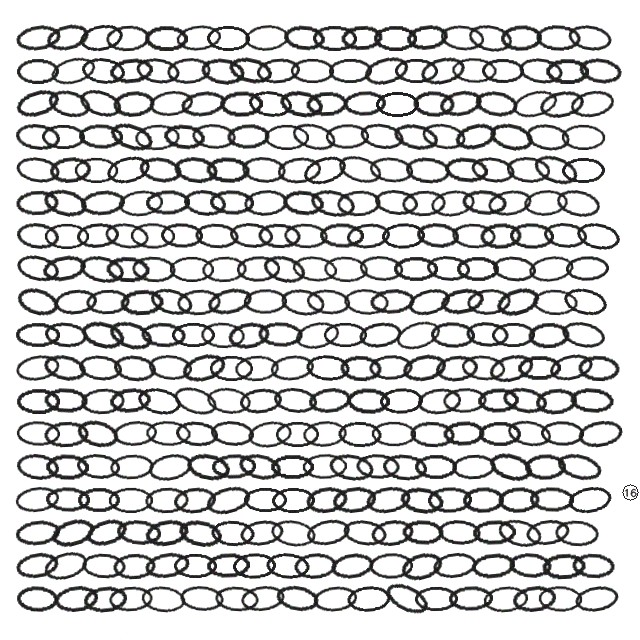chain: (381, 577, 432, 620), (530, 150, 581, 189), (106, 118, 156, 156), (393, 316, 443, 354), (170, 382, 220, 420), (300, 151, 349, 189), (106, 316, 155, 354), (361, 52, 411, 89), (13, 85, 62, 122), (76, 85, 125, 122), (335, 151, 384, 188), (493, 283, 542, 320), (179, 349, 228, 386), (486, 448, 535, 485), (48, 514, 97, 551), (41, 547, 90, 584), (48, 53, 98, 89), (510, 86, 560, 122), (289, 119, 339, 155), (486, 350, 536, 386), (554, 449, 604, 485), (203, 482, 253, 518), (495, 515, 545, 551), (14, 283, 62, 320), (83, 514, 131, 551), (260, 251, 309, 287), (147, 284, 196, 320), (405, 284, 454, 320), (398, 548, 446, 584), (418, 53, 467, 88), (45, 86, 94, 121), (205, 284, 254, 319), (561, 284, 610, 319), (78, 317, 127, 352), (44, 20, 92, 55), (226, 53, 274, 88), (452, 119, 500, 154), (487, 119, 535, 154), (104, 152, 152, 187), (41, 185, 89, 220), (14, 251, 62, 286), (547, 350, 595, 385), (74, 416, 122, 451), (466, 21, 515, 55), (537, 87, 586, 121), (391, 120, 440, 154), (308, 186, 357, 220), (574, 219, 623, 253), (77, 252, 126, 286), (293, 318, 342, 352), (559, 318, 608, 352), (135, 384, 184, 418), (554, 186, 602, 220), (41, 351, 89, 385), (146, 450, 194, 484), (236, 450, 284, 484), (176, 516, 224, 550), (568, 87, 617, 120), (500, 384, 549, 417), (573, 582, 620, 616), (77, 21, 125, 54), (277, 87, 325, 120), (437, 87, 485, 120), (358, 120, 406, 153), (40, 252, 88, 285), (438, 285, 486, 318), (400, 351, 448, 384), (505, 417, 553, 450), (576, 417, 624, 450), (184, 450, 232, 483), (364, 483, 412, 516), (566, 483, 614, 516), (304, 516, 352, 549), (143, 549, 191, 582), (420, 120, 467, 153), (143, 516, 190, 549), (14, 549, 61, 582), (274, 582, 321, 615), (14, 22, 62, 54), (134, 55, 182, 87), (517, 55, 565, 87), (179, 88, 227, 120), (524, 121, 572, 153), (429, 187, 477, 219), (486, 187, 534, 219), (103, 220, 151, 252), (527, 253, 575, 285), (246, 418, 294, 450), (327, 451, 375, 483), (238, 517, 286, 549), (269, 517, 317, 549), (341, 517, 389, 549), (566, 22, 613, 54), (199, 55, 246, 87), (577, 55, 624, 87), (473, 88, 520, 120), (14, 154, 61, 186), (137, 154, 184, 186), (469, 154, 516, 186), (279, 286, 326, 318), (357, 319, 404, 351), (14, 352, 61, 384), (398, 484, 445, 516), (329, 550, 376, 582), (205, 385, 253, 416), (239, 583, 287, 614), (226, 319, 272, 351), (14, 121, 61, 152), (172, 154, 219, 185), (272, 385, 319, 416), (14, 484, 61, 515), (369, 517, 416, 548), (524, 517, 571, 548), (431, 550, 478, 581), (80, 55, 126, 86), (148, 88, 194, 119), (247, 88, 293, 119), (182, 187, 228, 218), (373, 187, 419, 218), (15, 220, 61, 251), (307, 385, 353, 416), (15, 451, 61, 482), (304, 484, 350, 515), (331, 484, 377, 515), (53, 583, 99, 614), (511, 583, 557, 614), (175, 23, 222, 53), (439, 23, 486, 53), (368, 155, 415, 185), (404, 155, 451, 185), (79, 188, 126, 218), (117, 188, 164, 218), (345, 221, 392, 251), (291, 254, 338, 284), (305, 287, 352, 317), (460, 353, 507, 383), (381, 452, 428, 482), (14, 518, 61, 548), (140, 584, 187, 614), (312, 584, 359, 614), (482, 584, 529, 614), (405, 22, 450, 53), (108, 56, 154, 86), (255, 56, 301, 86), (276, 155, 322, 185), (443, 155, 489, 185), (491, 254, 537, 284), (53, 287, 99, 317), (43, 320, 89, 350), (77, 353, 123, 383), (112, 353, 158, 383), (269, 353, 315, 383), (434, 353, 480, 383), (238, 386, 284, 416), (416, 386, 462, 416), (174, 419, 220, 449), (172, 485, 218, 515), (470, 551, 516, 581), (82, 584, 128, 614), (505, 155, 552, 184), (228, 221, 275, 250), (542, 221, 589, 250), (358, 254, 405, 283), (115, 518, 162, 547), (282, 23, 327, 53), (162, 122, 207, 152), (281, 188, 326, 218), (534, 386, 579, 416), (244, 23, 290, 52), (191, 122, 237, 151), (241, 155, 287, 184), (461, 188, 507, 217), (523, 188, 569, 217), (75, 221, 121, 250), (415, 221, 461, 250), (425, 254, 471, 283), (343, 287, 389, 316), (369, 287, 415, 316), (466, 287, 512, 316), (147, 353, 193, 382), (112, 419, 158, 448), (209, 419, 255, 448), (302, 419, 348, 448), (75, 452, 121, 481), (346, 584, 392, 613), (166, 56, 211, 85), (48, 155, 93, 184), (243, 188, 288, 217), (465, 320, 510, 349), (305, 353, 350, 382), (108, 386, 153, 415), (569, 386, 614, 415), (437, 518, 482, 547), (265, 551, 310, 580), (293, 551, 338, 580), (508, 551, 553, 580), (179, 584, 224, 613), (134, 123, 180, 151), (401, 189, 447, 217), (283, 222, 329, 250), (201, 255, 247, 283), (323, 255, 369, 283), (85, 288, 131, 316), (176, 288, 222, 316), (532, 288, 578, 316), (140, 321, 186, 349), (200, 321, 246, 349), (234, 354, 280, 382), (43, 420, 89, 448), (409, 420, 455, 448), (451, 453, 497, 481), (210, 519, 256, 547), (554, 519, 600, 547), (108, 585, 154, 613), (112, 89, 156, 118), (105, 24, 150, 52), (15, 189, 60, 217), (336, 189, 381, 217), (194, 222, 239, 250), (257, 222, 302, 250), (451, 222, 496, 250), (105, 255, 150, 283), (131, 255, 176, 283), (119, 288, 164, 316), (80, 387, 125, 415), (337, 420, 382, 448), (109, 453, 154, 481), (144, 486, 189, 514), (81, 552, 126, 580), (112, 552, 157, 580), (541, 552, 586, 580), (571, 552, 616, 580), (214, 585, 259, 613), (535, 24, 581, 51), (451, 57, 497, 84), (257, 321, 303, 348), (368, 354, 414, 381), (145, 420, 191, 447), (355, 453, 401, 480), (340, 24, 384, 52), (305, 90, 349, 118), (527, 321, 571, 349), (339, 354, 383, 382), (577, 354, 621, 382), (78, 123, 123, 150), (226, 123, 271, 150), (205, 156, 250, 183), (145, 189, 190, 216), (209, 189, 254, 216), (130, 222, 175, 249), (319, 222, 364, 249), (509, 222, 554, 249), (236, 255, 281, 282), (565, 255, 610, 282), (430, 321, 475, 348), (43, 387, 88, 414), (379, 387, 424, 414), (442, 387, 487, 414), (540, 420, 585, 447), (211, 453, 256, 480), (302, 453, 347, 480), (45, 486, 90, 513), (427, 486, 472, 513), (529, 486, 574, 513), (232, 552, 277, 579), (448, 585, 493, 612), (538, 585, 583, 612), (219, 90, 263, 117), (343, 90, 387, 117), (412, 90, 456, 117), (325, 123, 369, 150), (160, 222, 204, 249), (381, 222, 425, 249), (479, 222, 523, 249), (243, 288, 287, 315), (346, 387, 390, 414), (16, 420, 60, 447), (442, 420, 486, 447), (45, 453, 89, 480), (497, 486, 541, 513), (401, 519, 445, 546), (472, 519, 516, 546), (206, 552, 250, 579), (369, 552, 413, 579), (206, 25, 251, 51), (312, 25, 357, 51), (290, 58, 335, 84), (375, 91, 420, 117), (41, 124, 86, 150), (264, 124, 309, 150), (561, 124, 606, 150), (74, 157, 119, 183), (44, 223, 89, 249), (169, 256, 214, 282), (393, 256, 438, 282), (15, 322, 60, 348), (491, 322, 536, 348), (371, 421, 416, 447), (108, 487, 153, 513), (243, 487, 288, 513), (271, 487, 316, 513), (173, 553, 218, 579), (500, 24, 543, 51), (477, 387, 520, 414), (524, 453, 567, 480), (462, 486, 505, 513), (16, 585, 59, 612), (144, 25, 188, 51), (373, 25, 417, 51), (16, 58, 60, 84), (328, 58, 372, 84), (394, 58, 438, 84), (481, 58, 525, 84), (545, 58, 589, 84), (561, 157, 605, 183), (456, 256, 500, 282), (171, 322, 215, 348), (323, 322, 367, 348), (209, 355, 253, 381), (517, 355, 561, 381), (16, 388, 60, 414), (275, 421, 319, 447), (478, 421, 522, 447), (270, 454, 314, 480), (414, 454, 458, 480), (77, 487, 121, 513), (414, 586, 458, 612)
noise: (620, 482, 640, 502)
